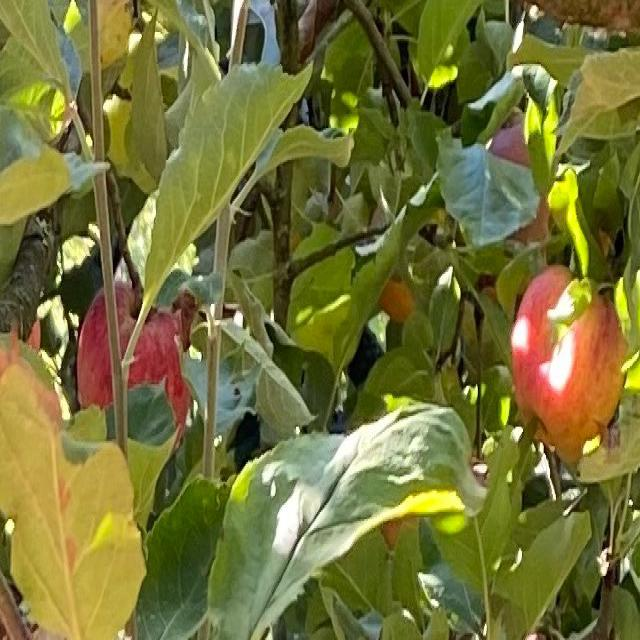Apples: (515, 266, 627, 452), (80, 284, 190, 441), (372, 206, 431, 320), (492, 124, 545, 238)
